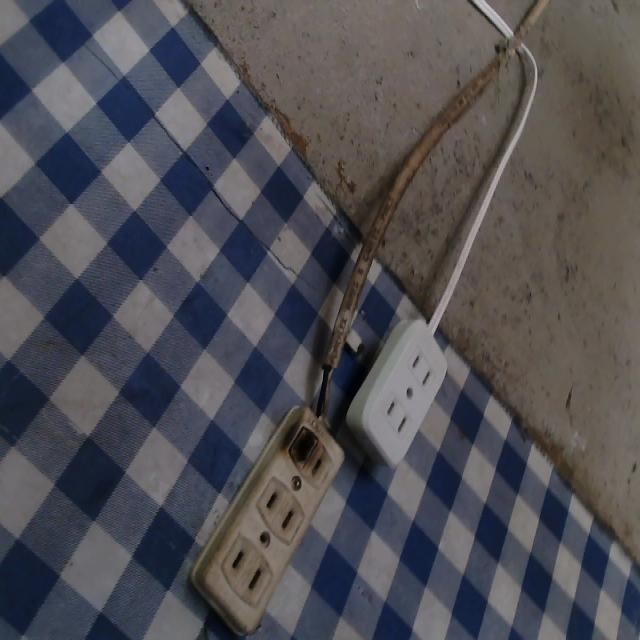-: (285, 416, 318, 471)
